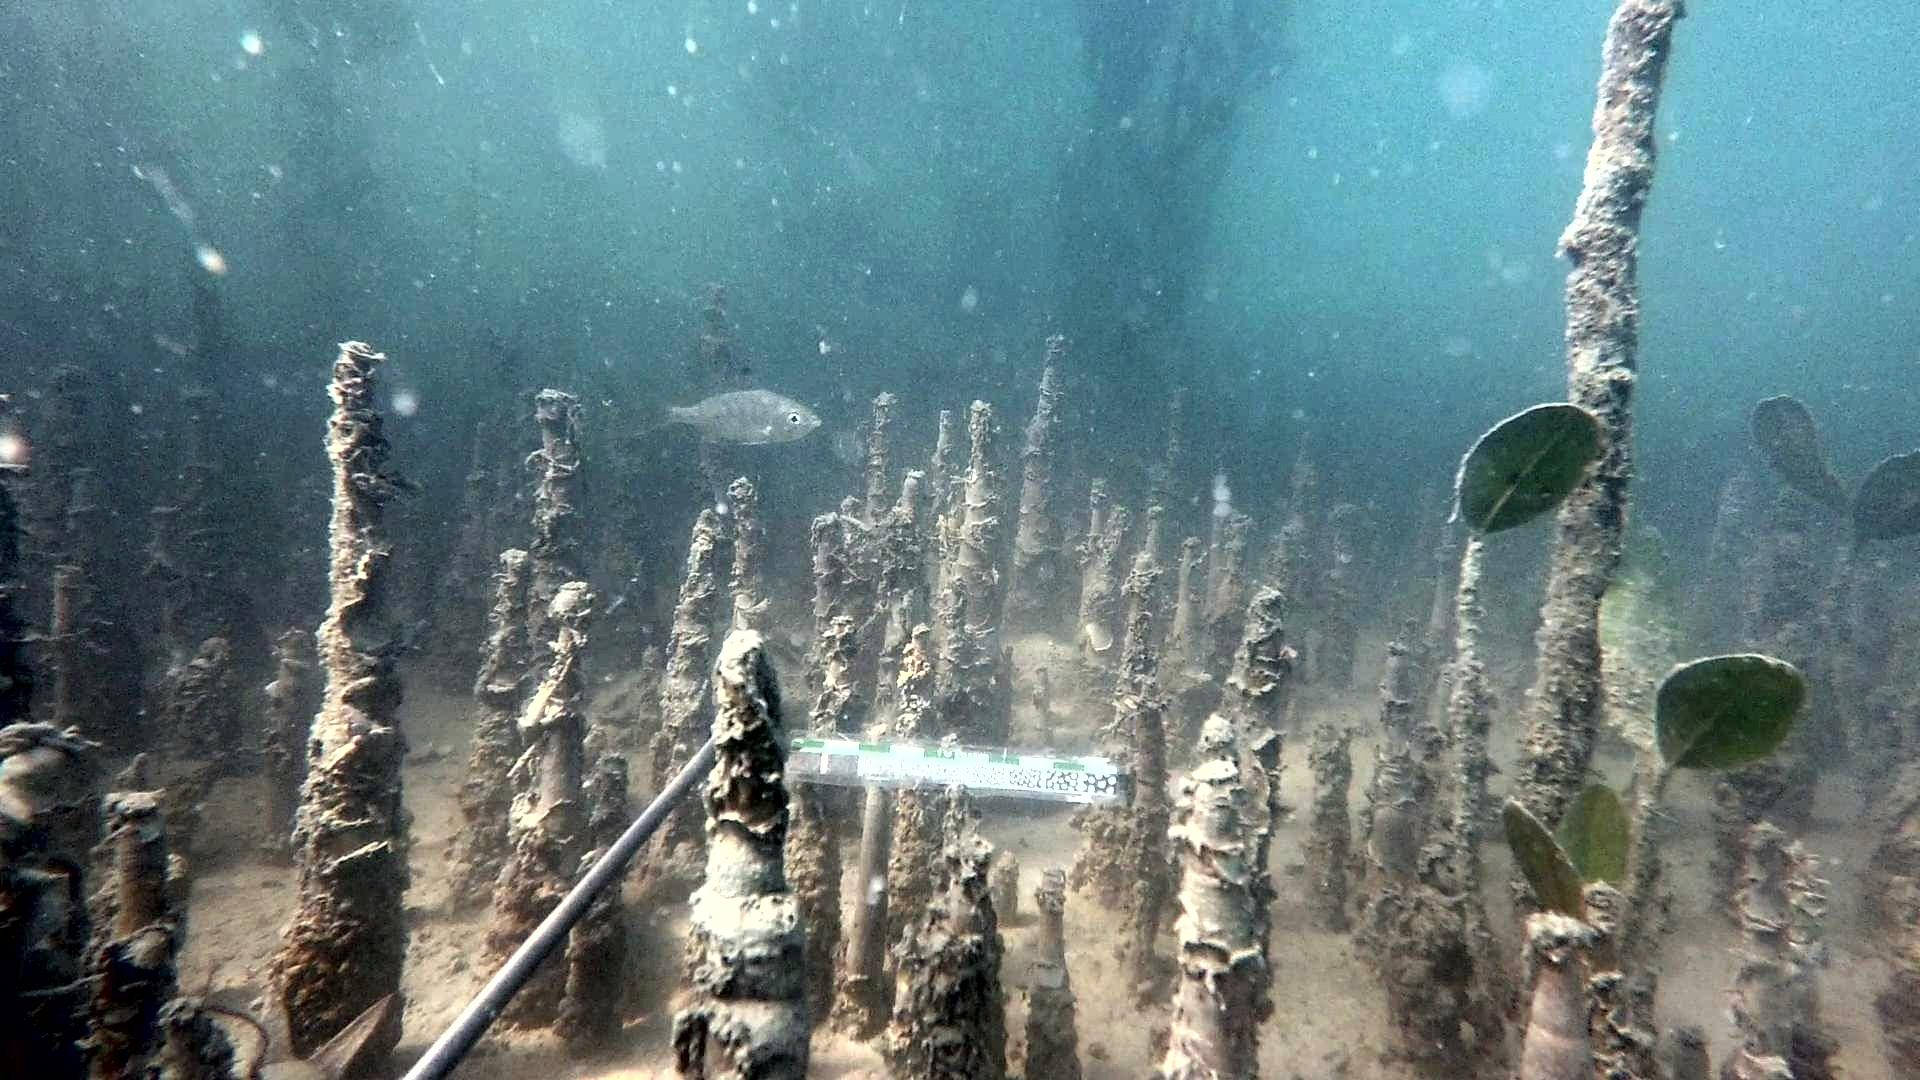gerres: (637, 364, 823, 447)
